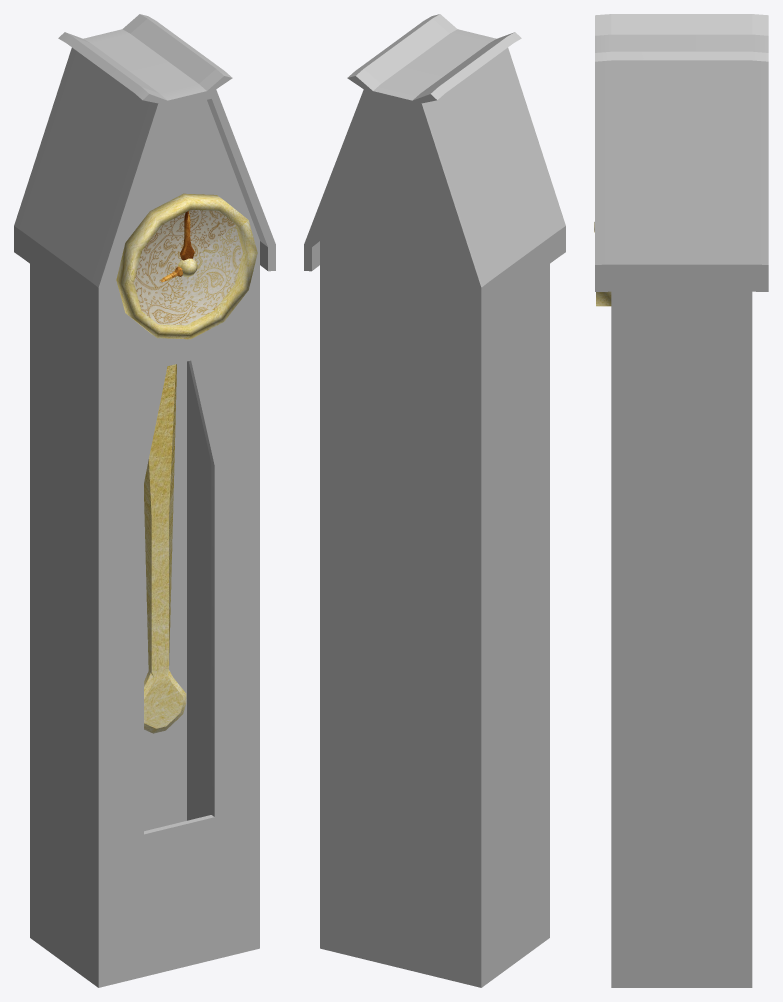
The model's file is Horloge.fbx.
3 renders of one model, left to right at view 1: azimuth 30°, elevation 25°; view 2: azimuth 150°, elevation 25°; view 3: azimuth 270°, elevation 25°, orthographic. The views are drawn at different scales.
Visible parts, largest first — view 1: pCube36; view 2: pCube36; view 3: pCube36.
Boxes of the visible parts, <box> form: pCube36: <box>14,14,275,987</box>; pCube36: <box>304,14,565,987</box>; pCube36: <box>594,14,768,987</box>.
Bounding box in the file's own units: 0.6309 × 3.03 × 0.5232.
